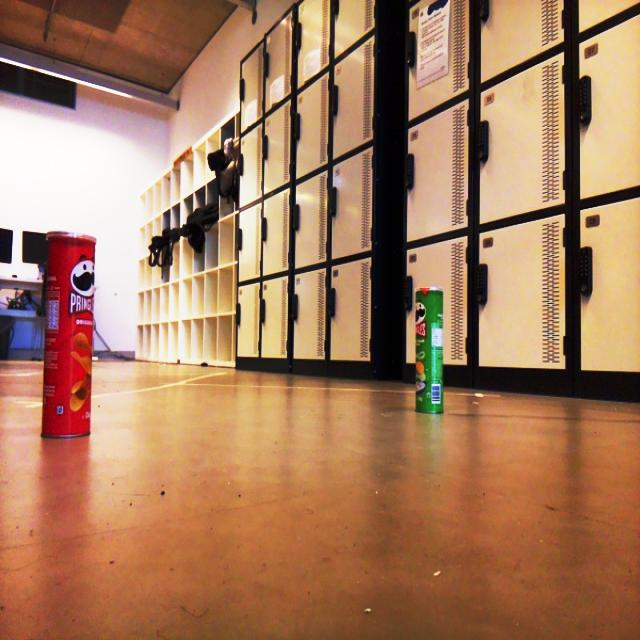greenpringles: (407, 278, 465, 423)
redpringles: (33, 229, 105, 446)
